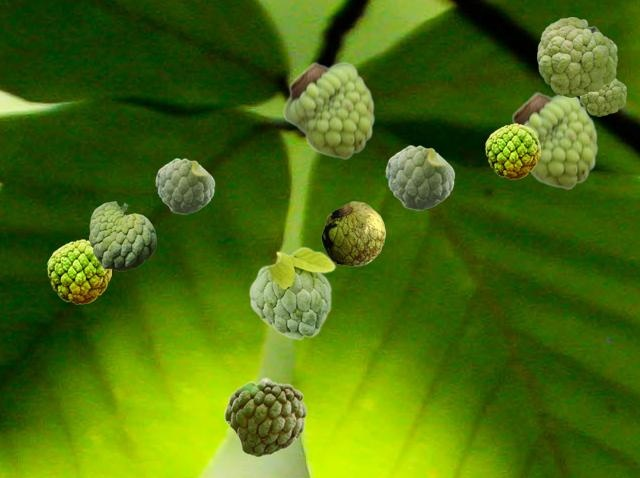atis: (283, 61, 374, 159), (511, 91, 597, 189), (248, 246, 335, 339), (223, 377, 306, 456), (537, 17, 616, 96), (89, 201, 155, 270), (385, 145, 454, 209), (47, 239, 110, 303), (321, 201, 384, 265), (155, 158, 214, 213), (485, 123, 539, 178), (580, 78, 625, 115)
